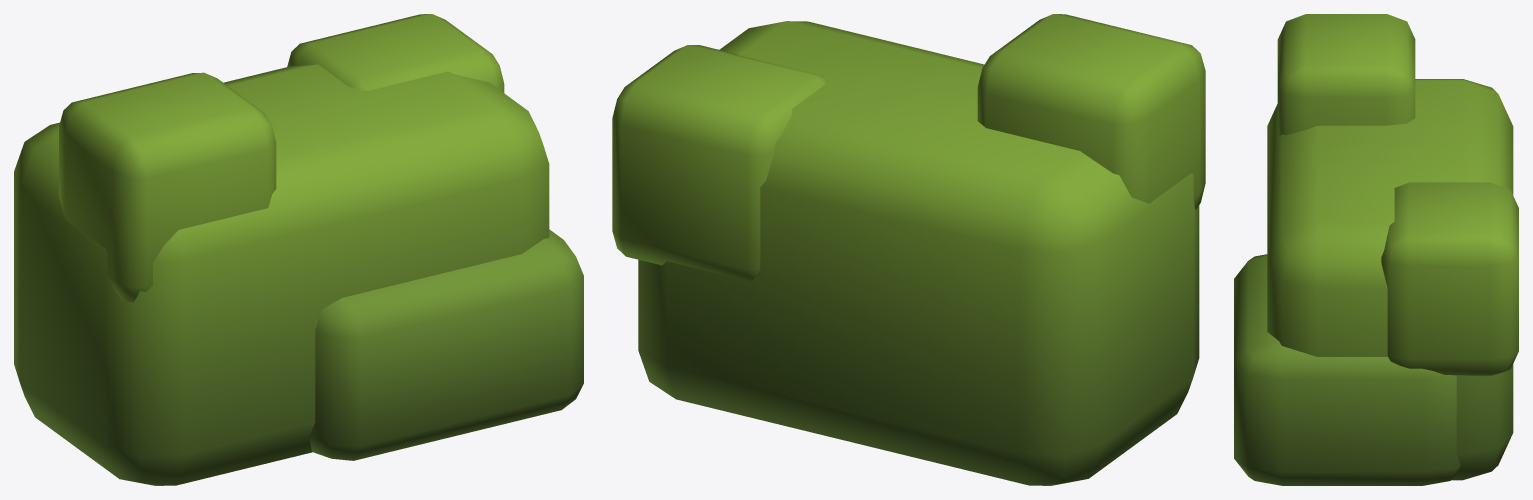
The model's file is Bush+1.fbx.
3 renders of one model, left to right at view 1: azimuth 30°, elevation 25°; view 2: azimuth 150°, elevation 25°; view 3: azimuth 270°, elevation 25°, orthographic. The views are drawn at different scales.
Visible parts, largest first — view 1: Bush 1; view 2: Bush 1; view 3: Bush 1.
Part boxes in pixels (x1,y1,x2,y2): Bush 1: (14, 14, 583, 485); Bush 1: (612, 14, 1205, 485); Bush 1: (1234, 14, 1518, 485).
Size of the model in its own units: 68.69 by 52.98 by 44.09.
